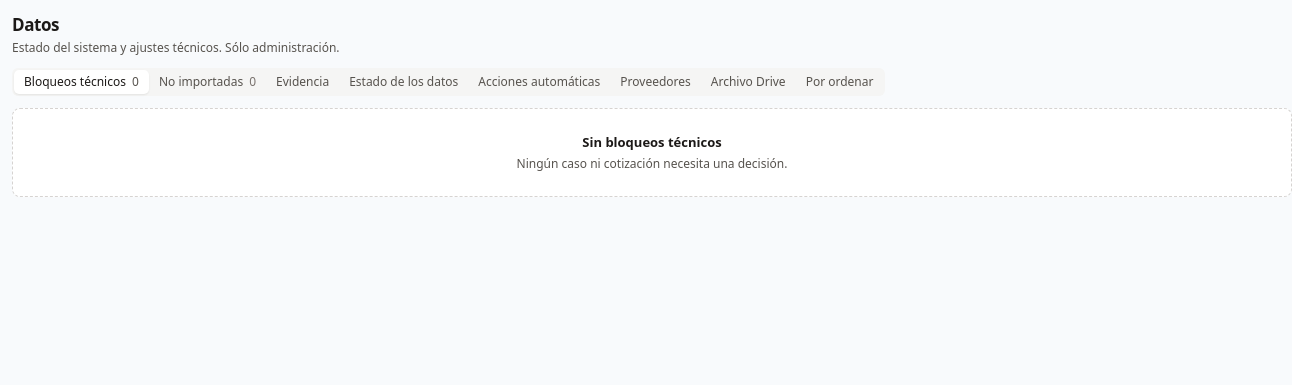
Scenario: Datos → Estado de los datos › reads the data-health counts only when the tab is opened
Check: the text "Sin bloqueos técnicos" is shown, box [582,132,722,150]
Click the button "Estado de los datos".
click(404, 82)  # box [339,70,468,94]
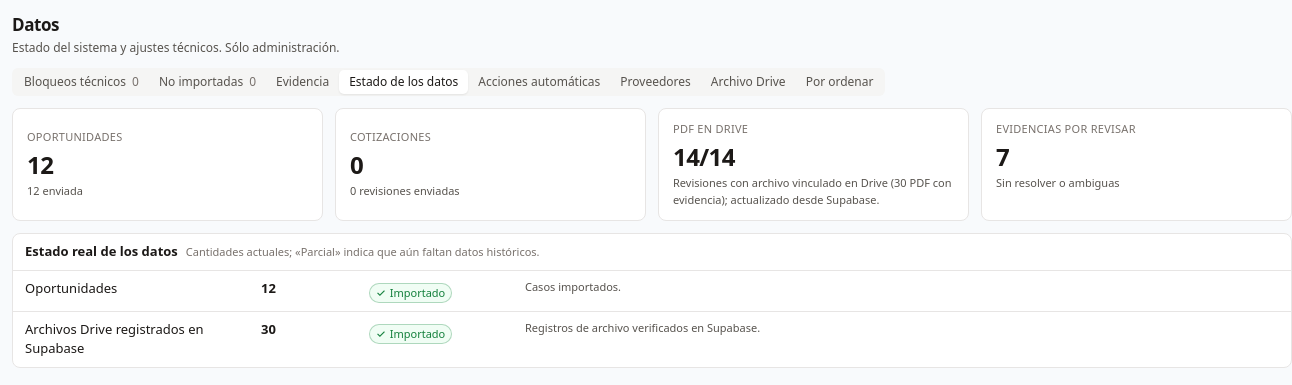
Check: the heading "Estado real de los datos" is shown, box [25,242,178,262]
